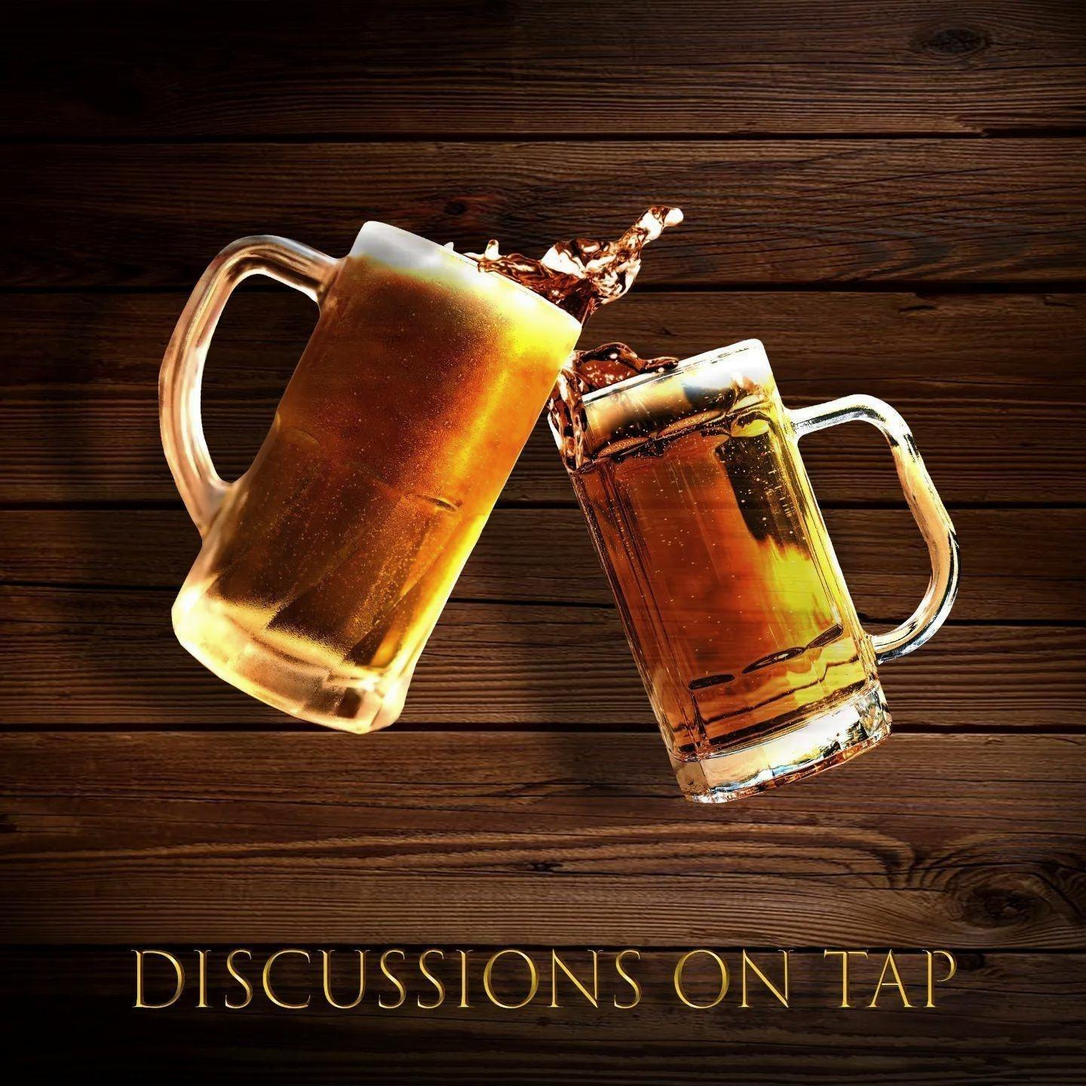glass-mug: (141, 210, 580, 741), (544, 334, 976, 817)
